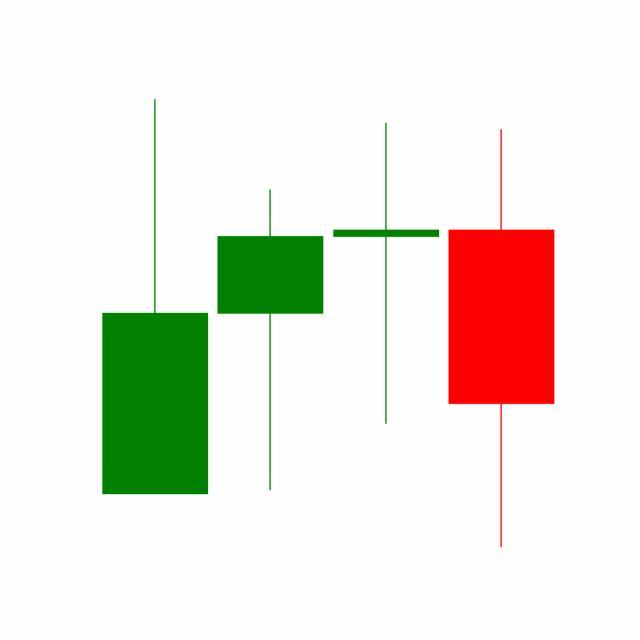Spinning Top: (329, 120, 445, 428)
